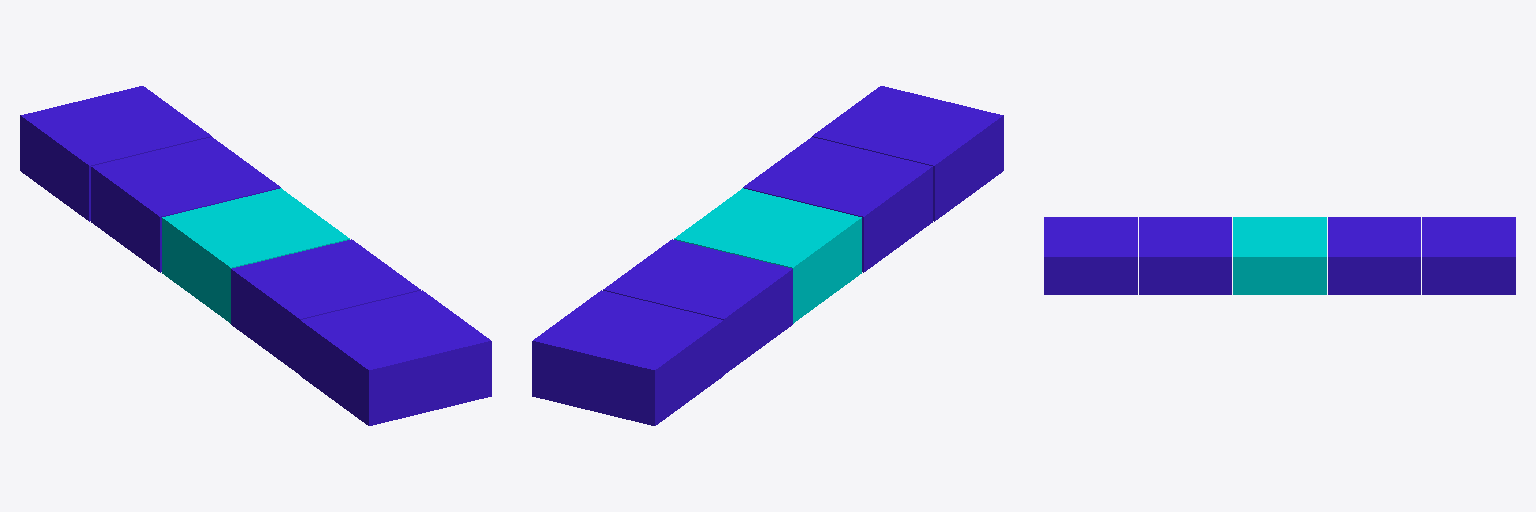
The robot description file, URDF, robot "snake":
<robot name="snake">

	<!-- * * * Link Definitions * * * -->

 	<link name="base_link">
		<visual>
		    <origin xyz="0 0 0" rpy="0 0 0.0"/>
         
			<geometry>
				<box size=".67 .67 .3"/>
			</geometry>
			<material name="c">
	       		<color rgba="0 0.9 0.9 1.0"/>
	     	</material>
		</visual>	

    <collision>
      <origin xyz="0 0 0" rpy="0 0 0"/>
      <geometry>
        <box size=".67 .67 .3"/>
      </geometry>
      </collision>

	</link>

	<link name="arm1">
		<visual>
		    <origin xyz="0 .34 0" rpy="0 0 0"/>
			<geometry>
				<box size=".68 .67 .3"/>
			</geometry>
			<material name="Cyan1">
	       		<color rgba="0.3 0.15 0.9 1.0"/>
	     	</material>
		</visual>	

		<collision>
      <origin xyz=".16 0 0" rpy="0 0 1.57"/>
			<geometry>
				<box size=".68 .67 .3"/>
			</geometry>
      </collision>
	</link>

	<link name="body1">
		<visual>
		    <origin xyz="0 .34 0" rpy="0 0 0"/>
			<geometry>
				<box size=".688 .67 .3"/>
			</geometry>
			<material name="Cyan1">
	       		<color rgba="0.3 0.15 0.9 1.0"/>
	     	</material>
		</visual>	

		<collision>
      <origin xyz=".16 0 0" rpy="0 0 0"/>
			<geometry>
				<box size=".68 .67 .3"/>
			</geometry>
      </collision>
	</link>


	<link name="arm2">
		<visual>
		    <origin xyz="0 -.34 0" rpy="0 0 0"/>
			<geometry>
				<box size=".68 .67 .3"/>
			</geometry>
			<material name="Cyan1">
	       		<color rgba="0.3 0.15 0.9 1.0"/>
	     	</material>
		</visual>	

		<collision>
      <origin xyz=".16 0 0" rpy="0 0 0"/>
			<geometry>
				<box size=".68 .67 .3"/>
			</geometry>
      </collision>
	</link>

	<link name="body2">
		<visual>
		    <origin xyz="0 -.34 0" rpy="0 0 0"/>
			<geometry>
				<box size=".688 .67 .3"/>
			</geometry>
			<material name="Cyan1">
	       		<color rgba="0.3 0.15 0.9 1.0"/>
	     	</material>
		</visual>	

		<collision>
      <origin xyz=".16 0 0" rpy="0 0 0"/>
			<geometry>
				<box size=".68 .67 .3"/>
			</geometry>
      </collision>
	</link>

  	<joint name="joint1" type="fixed">
    <parent link="base_link"/>
    <child link="arm1"/>
    <origin xyz="0.0 0.34 0"/>
    <axis xyz="1 0 0"/>
	<limit lower="-1" upper="1.0" effort="0.0" velocity="0.0"/> 
  	</joint>

	<joint name="joint2" type="revolute">
    <parent link="arm1"/>
    <child link="body1"/>
    <origin xyz="0.0 0.68 0"/>
    <axis xyz="1 0 0"/>
	<limit lower="-1" upper="1.0" effort="0.0" velocity="0.0"/>
	</joint>

	<joint name="joint3" type="fixed">
    <parent link="base_link"/>
    <child link="arm2"/>
    <origin xyz="0.0 -0.34 0"/>
    <axis xyz="1 0 0"/>
	<limit lower="-1" upper="1.0" effort="0.0" velocity="0.0"/> 
  	</joint>

	<joint name="joint4" type="revolute">
    <parent link="arm2"/>
    <child link="body2"/>
    <origin xyz="0.0 -0.68 0"/>
    <axis xyz="1 0 0"/>
	<limit lower="-1" upper="1.0" effort="0.0" velocity="0.0"/> 
  	</joint>

</robot>

--- Facts derived from the render (not from the file) ---
Views: 3 orthographic renders of the robot side by side, from view 1: azimuth 30°, elevation 25°; view 2: azimuth 150°, elevation 25°; view 3: azimuth 270°, elevation 25°.
Robot: snake — 5 links, 4 joints (2 revolute, 2 fixed); root link base_link; default pose: every joint at zero.
Links seen in each view (by area): view 1: body2, body1, arm1, arm2, base_link; view 2: body1, body2, arm2, arm1, base_link; view 3: base_link, body1, body2, arm1, arm2.
Boxes of the visible links, <box> form: body2: <box>300,290,491,425</box>; body1: <box>20,86,211,221</box>; arm1: <box>91,137,280,272</box>; arm2: <box>231,239,420,374</box>; base_link: <box>162,188,349,323</box>; body1: <box>532,290,723,425</box>; body2: <box>812,86,1003,221</box>; arm2: <box>743,137,932,272</box>; arm1: <box>603,239,792,374</box>; base_link: <box>674,188,861,323</box>; base_link: <box>1233,217,1326,294</box>; body1: <box>1422,217,1515,294</box>; body2: <box>1044,217,1137,294</box>; arm1: <box>1328,217,1420,294</box>; arm2: <box>1139,217,1231,294</box>.
Bounding box of the posed robot: 0.688 × 3.39 × 0.3 m (x, y, z).
Geometry: primitives only (box / cylinder / sphere), no mesh files.